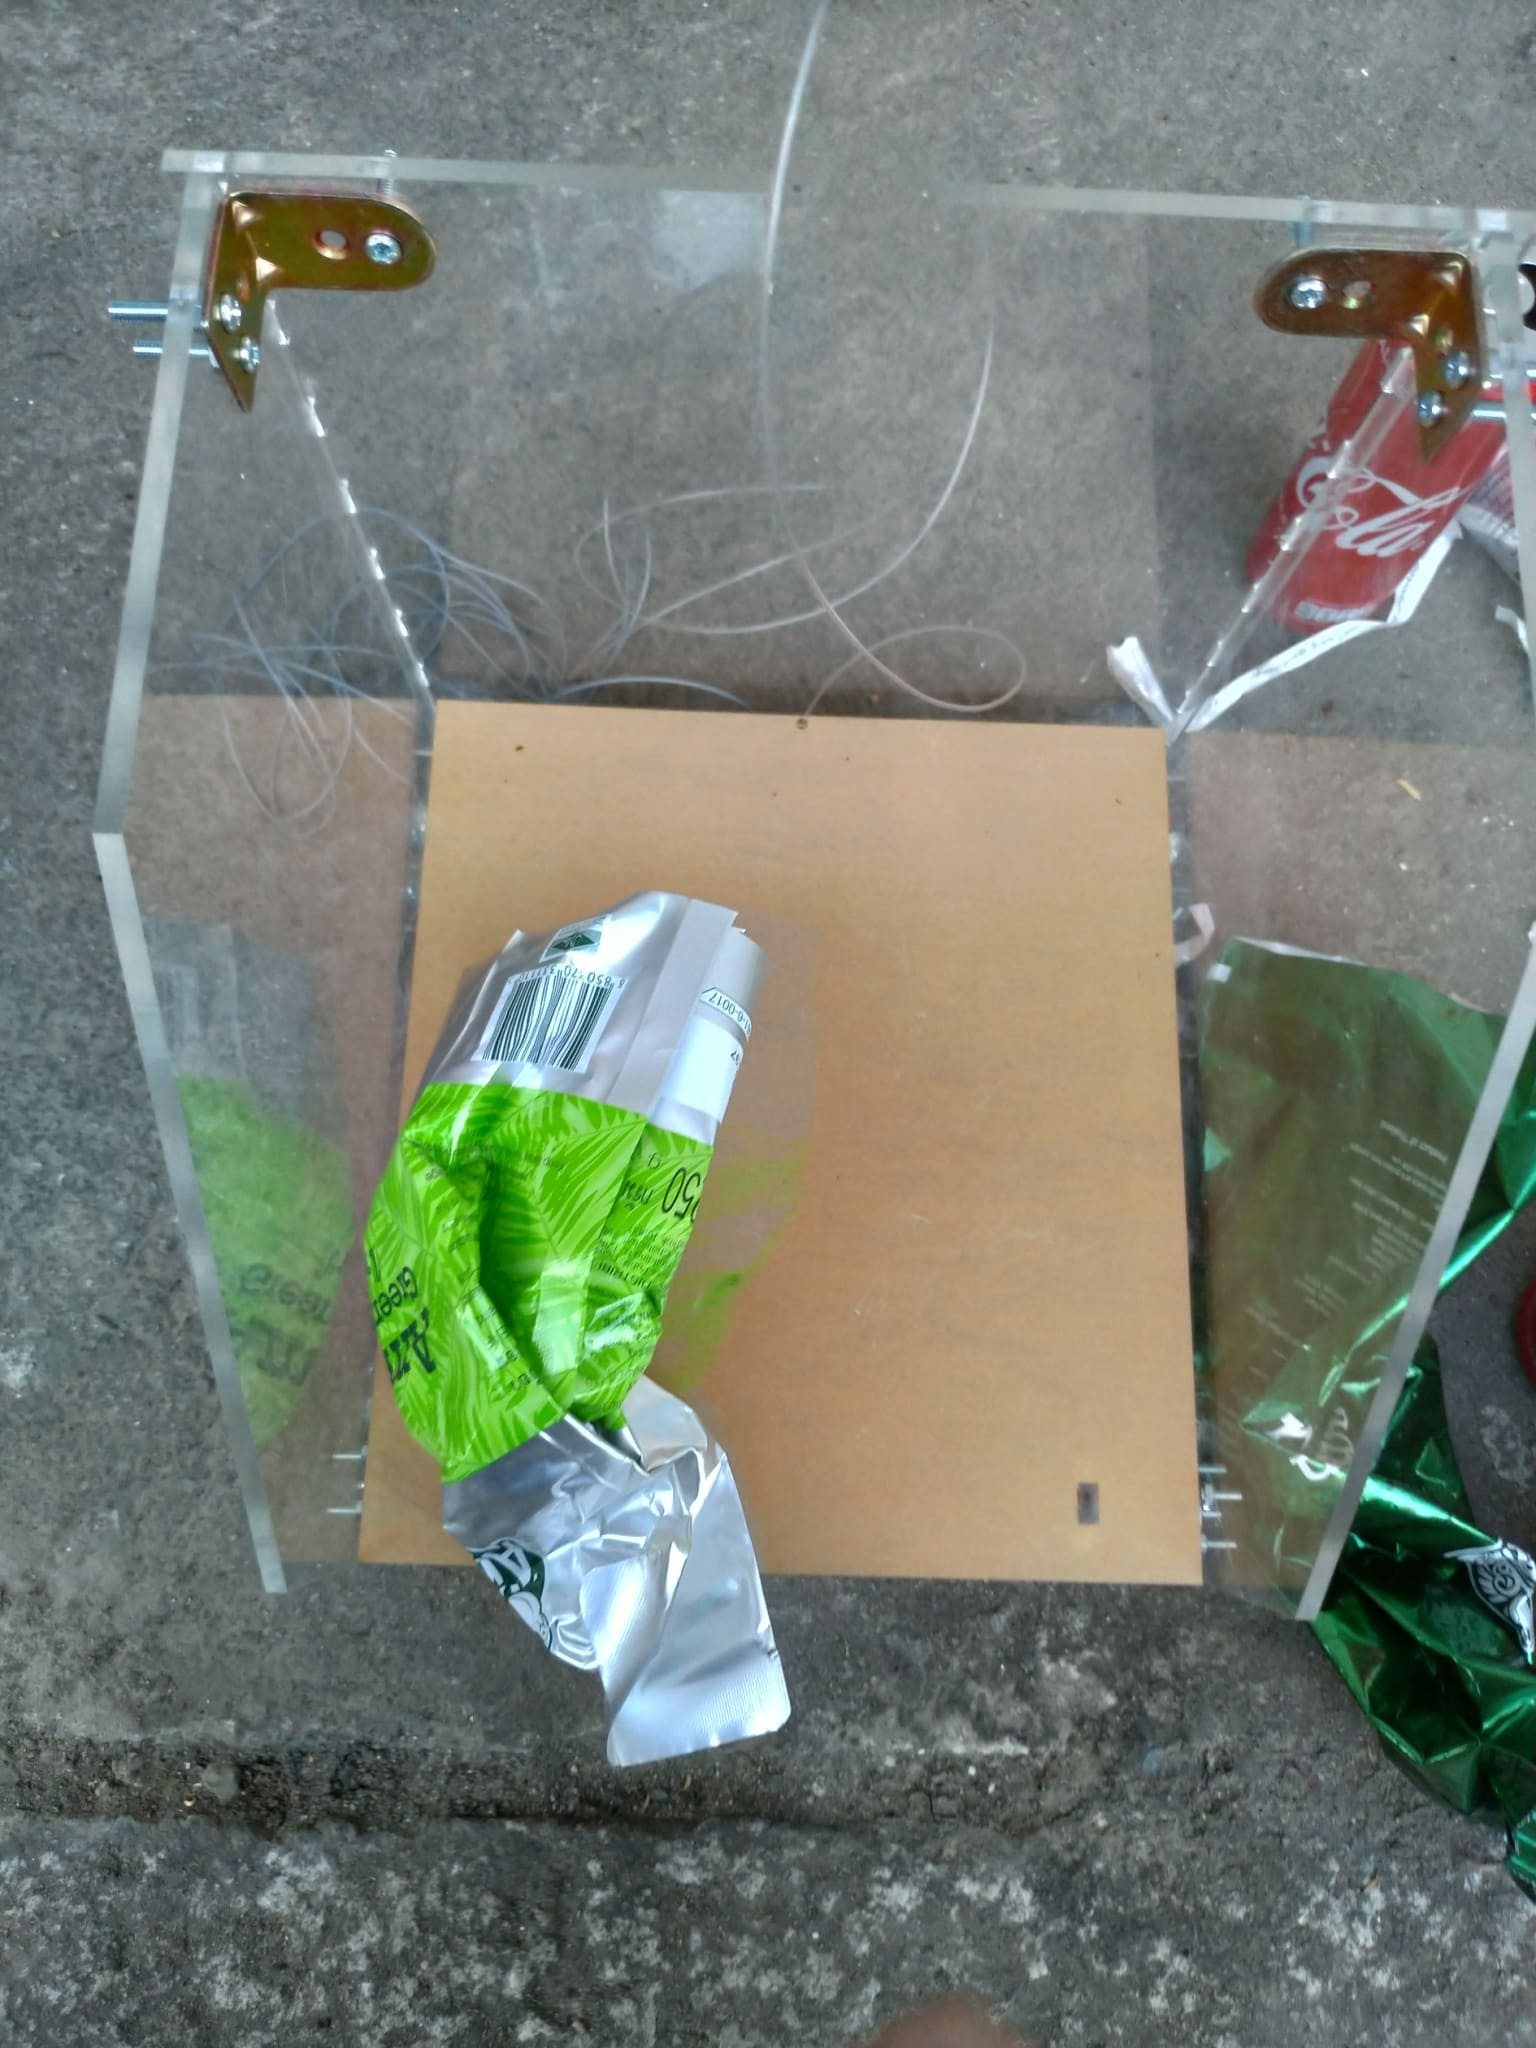AlCan: (1241, 232, 1533, 635)
Others: (353, 901, 803, 1761), (1194, 930, 1536, 1846)
